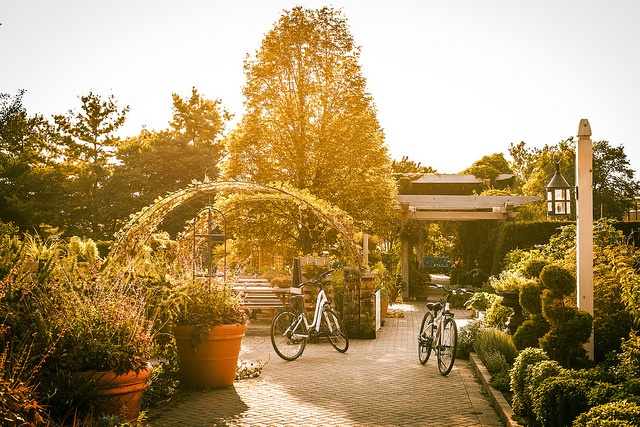non-vehicle: (268, 271, 344, 361), (415, 280, 475, 377)
